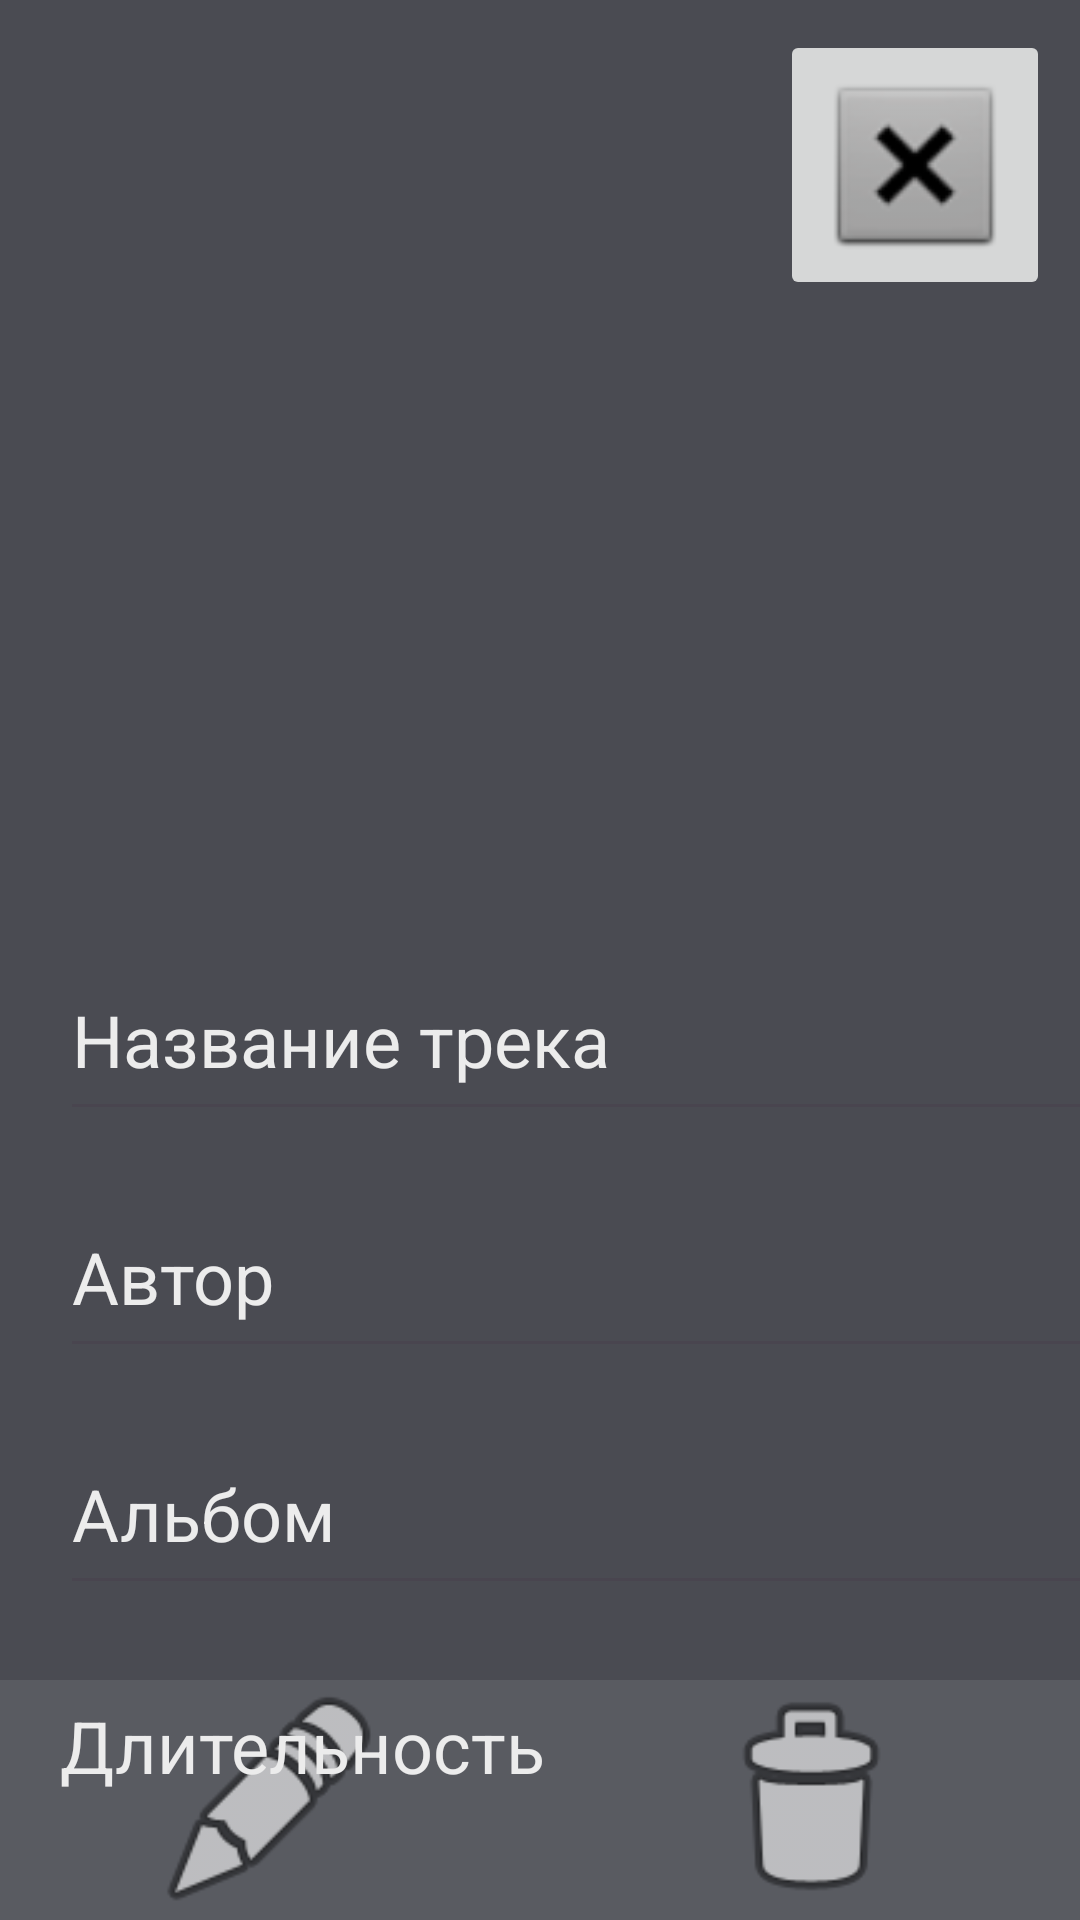

Screen size 1080px x 1920px. Icon name, then its center in pixels as (x=x, y=y):
Выйти из меню: (x=915, y=165)
Удалить трек: (x=811, y=1796)
